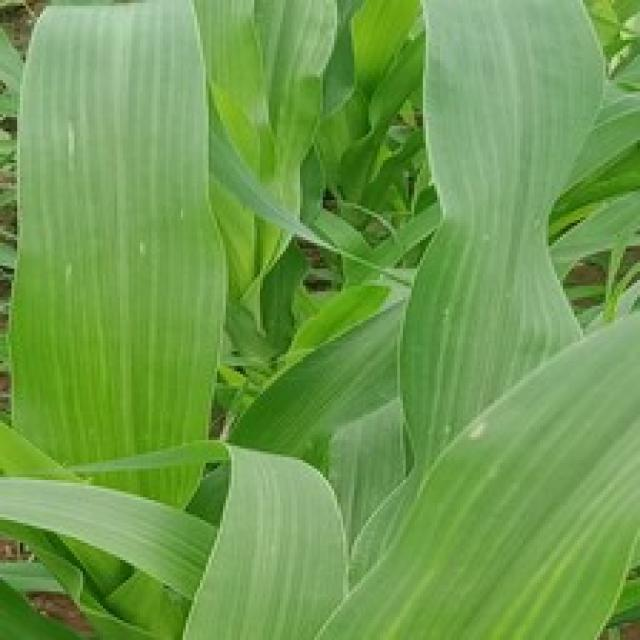Corn: (0, 0, 637, 637), (292, 294, 637, 637), (3, 0, 228, 509), (394, 0, 606, 483)
